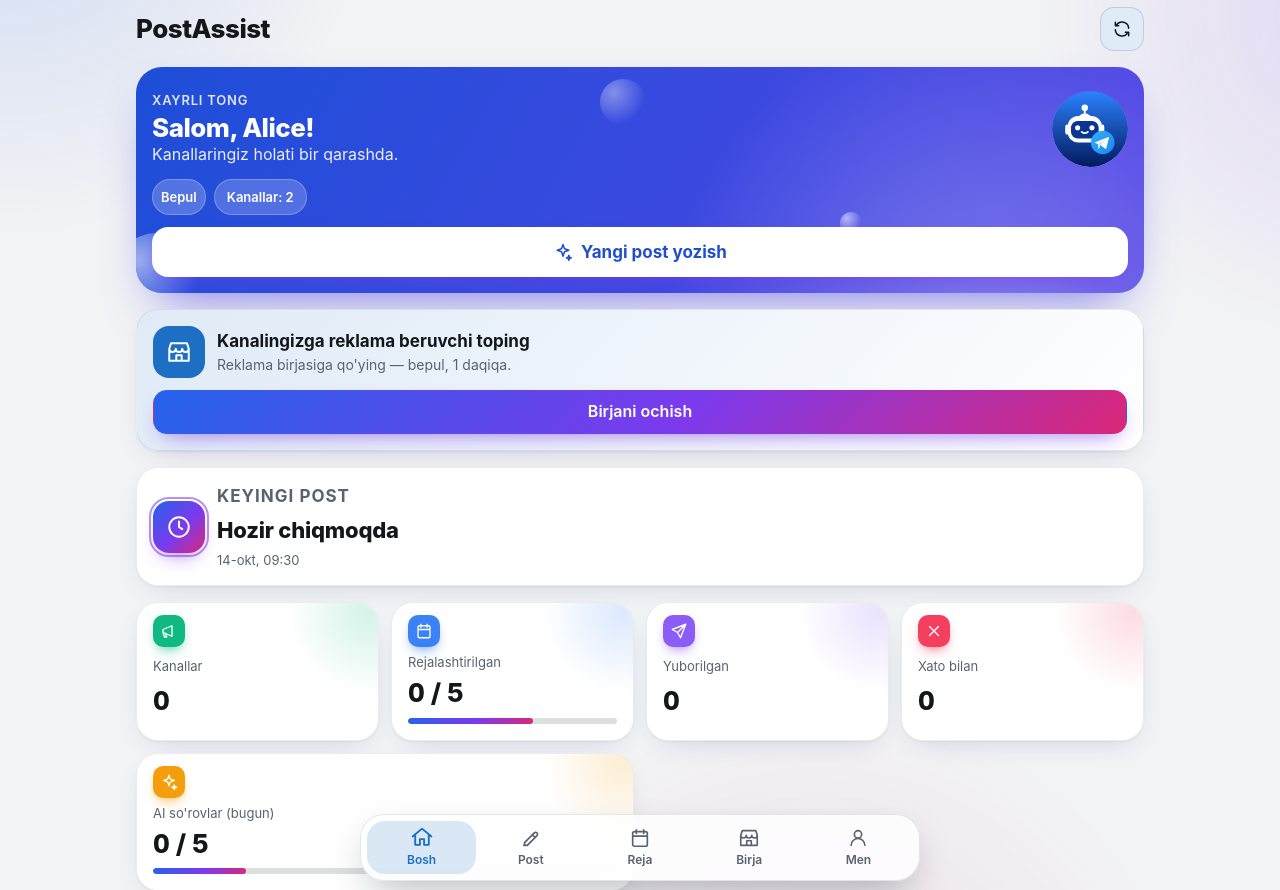
Test: Aqlli rejalash › matn -> «Aniqlash» -> taklif kartasi (manba, takrorlanish, birinchi chiqish) -> «Qo'llash» maydonlarni to'ldiradi
Expected: the heading "Salom, Alice!" is shown, [152,112,314,143]
Click the button "Post": coordinates (531, 847) [476,821,585,874]
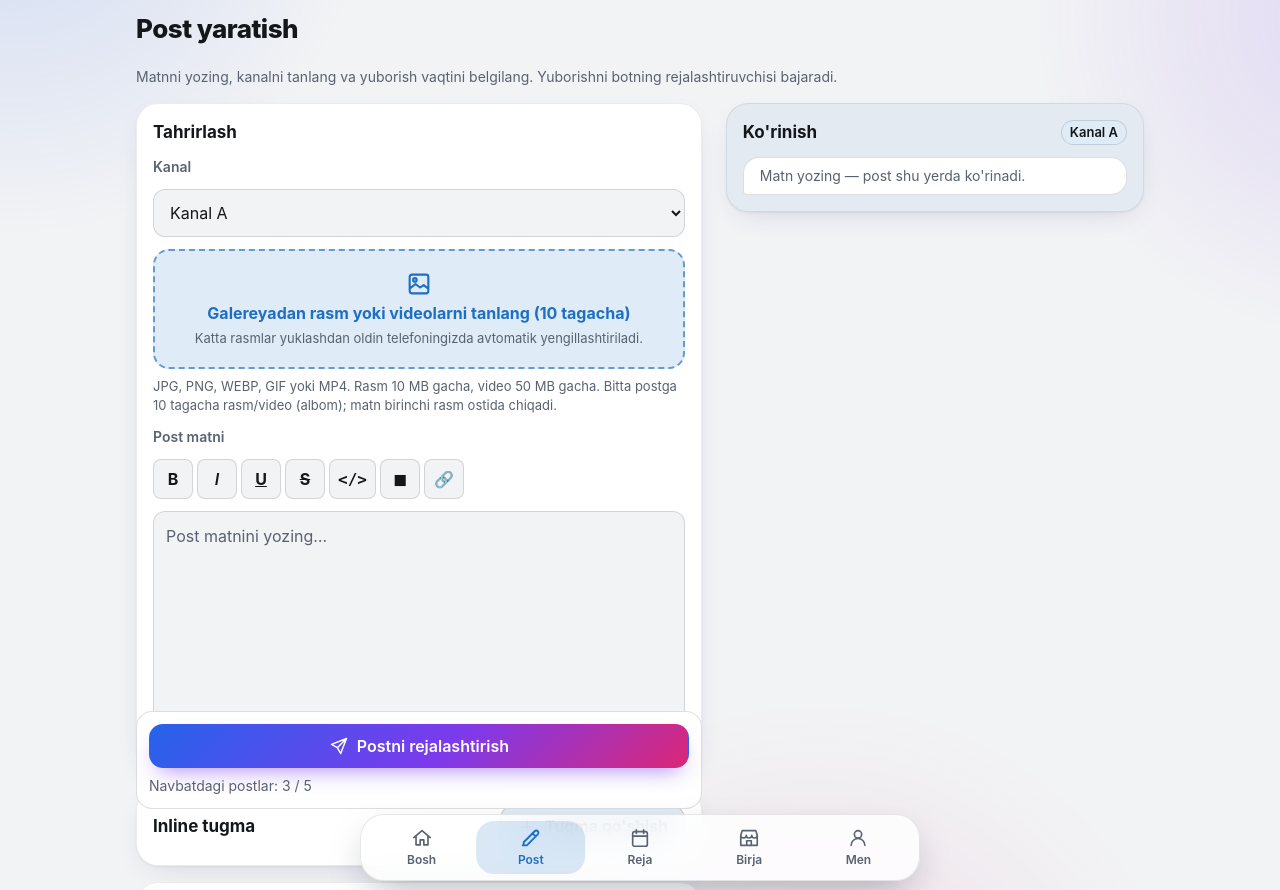
Select "Kanal A" in the dropdown labelled "Kanal": coordinates (419, 213) [153,189,685,237]
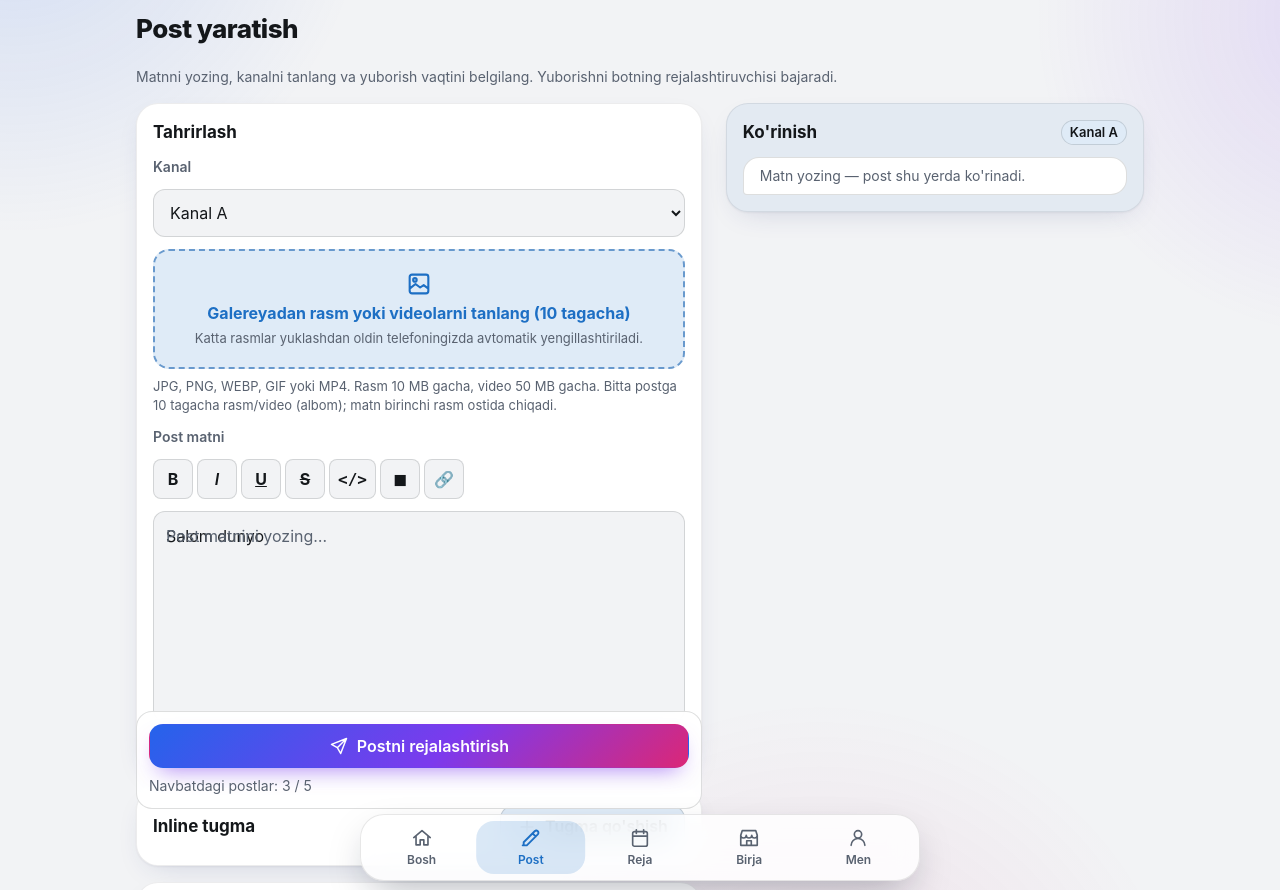
Clear the field named "Post matni": coordinates (419, 617) [153,511,685,722]
(page scrolled)
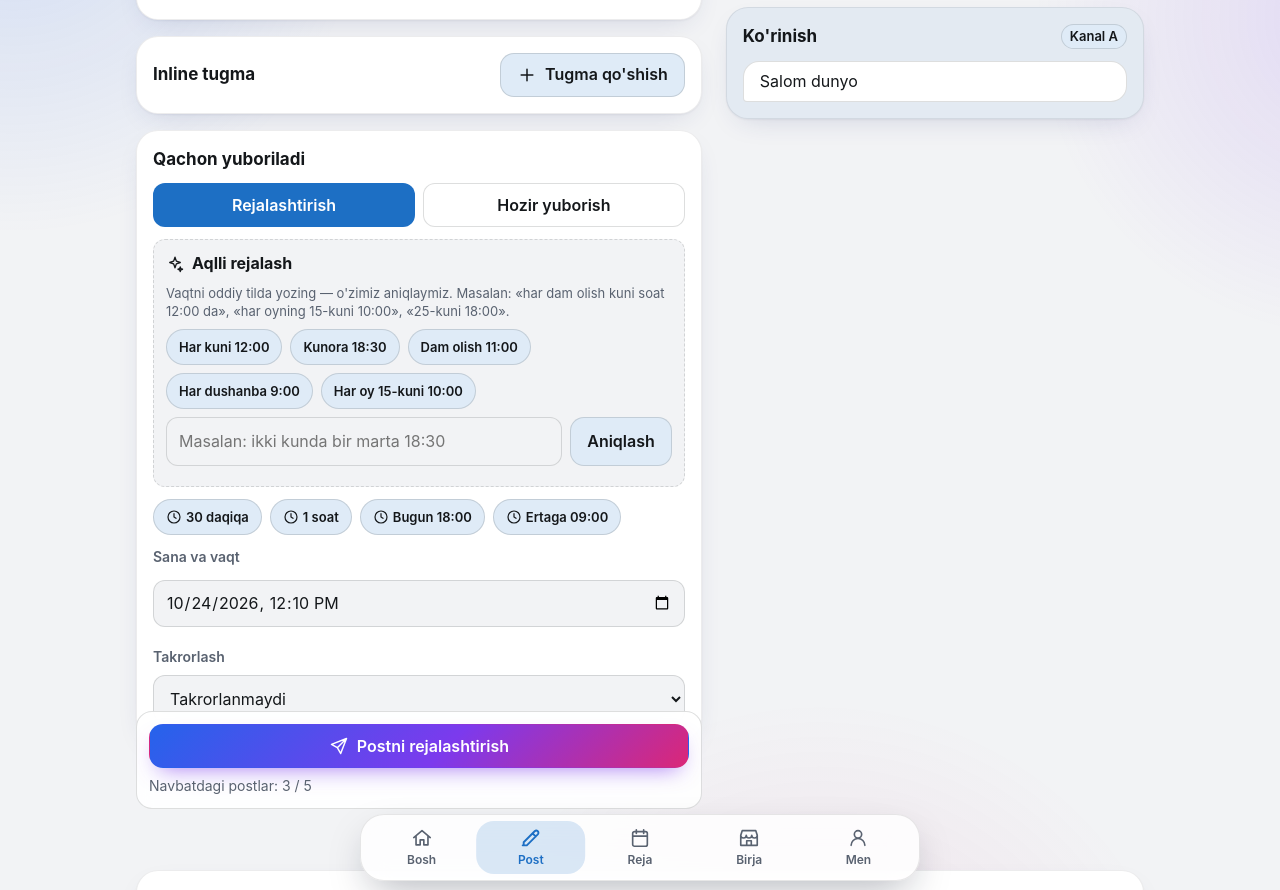
In the field named "Aqlli rejalash": coordinates (364, 442) [166,417,562,466], type "kunora 12:00"
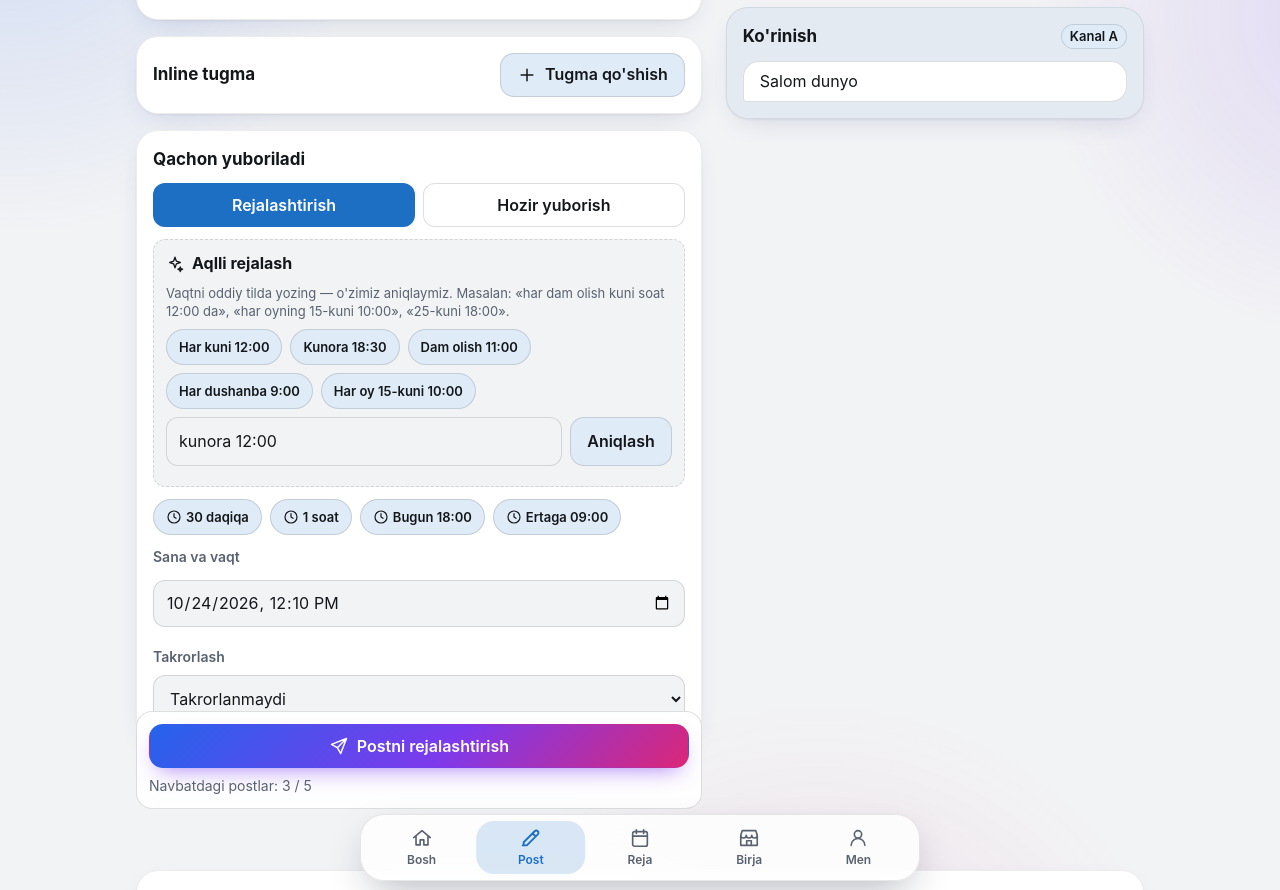
Click the button "Aniqlash": coordinates (621, 442) [570,417,672,466]
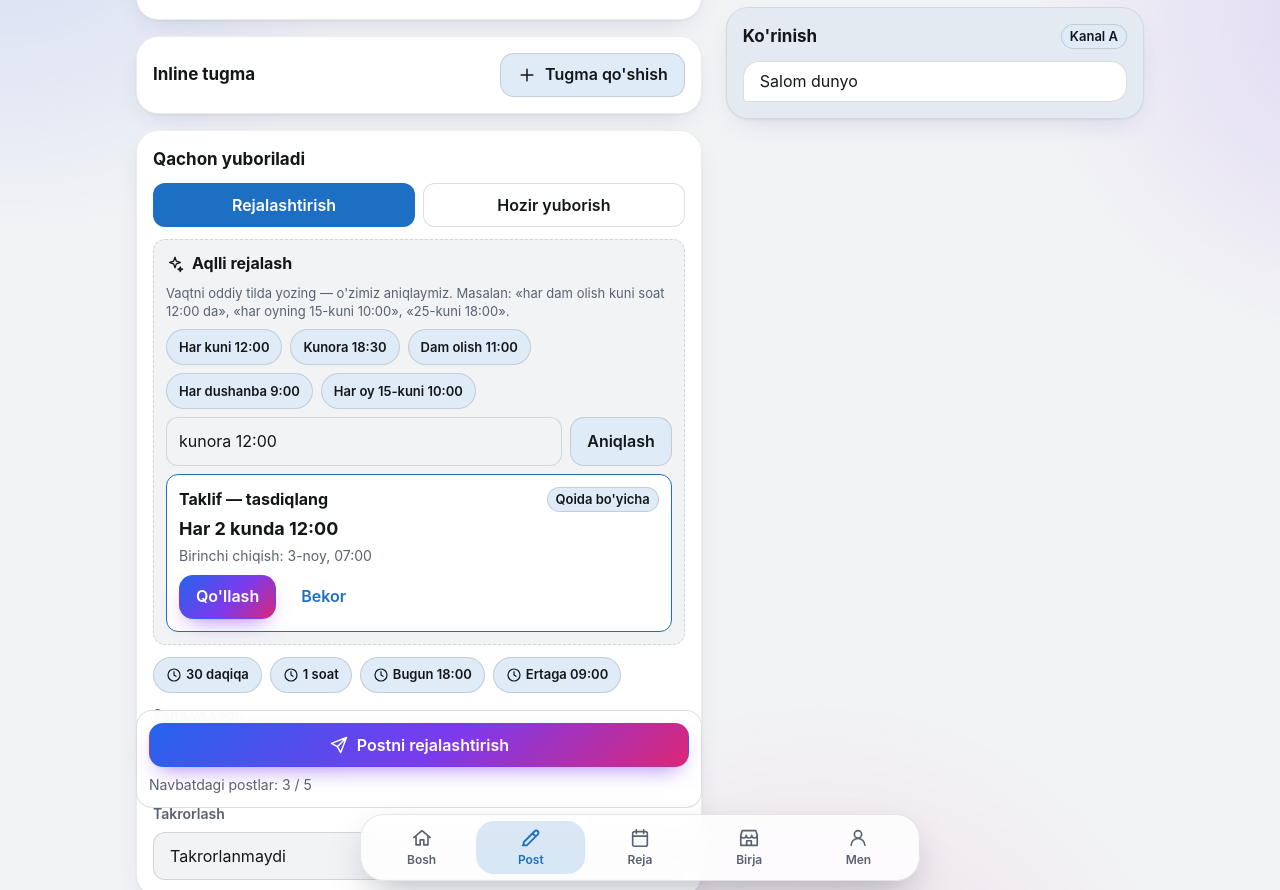
Result: the text "Har 2 kunda 12:00" is shown at [179,518,338,539]
Result: the text "Qoida bo'yicha" is shown at [546,487,659,512]
Result: the text "Birinchi chiqish: 3-noy, 07:00" is shown at [179,547,372,564]
Click the button "Qo'llash": coordinates (228, 597) [179,575,276,619]
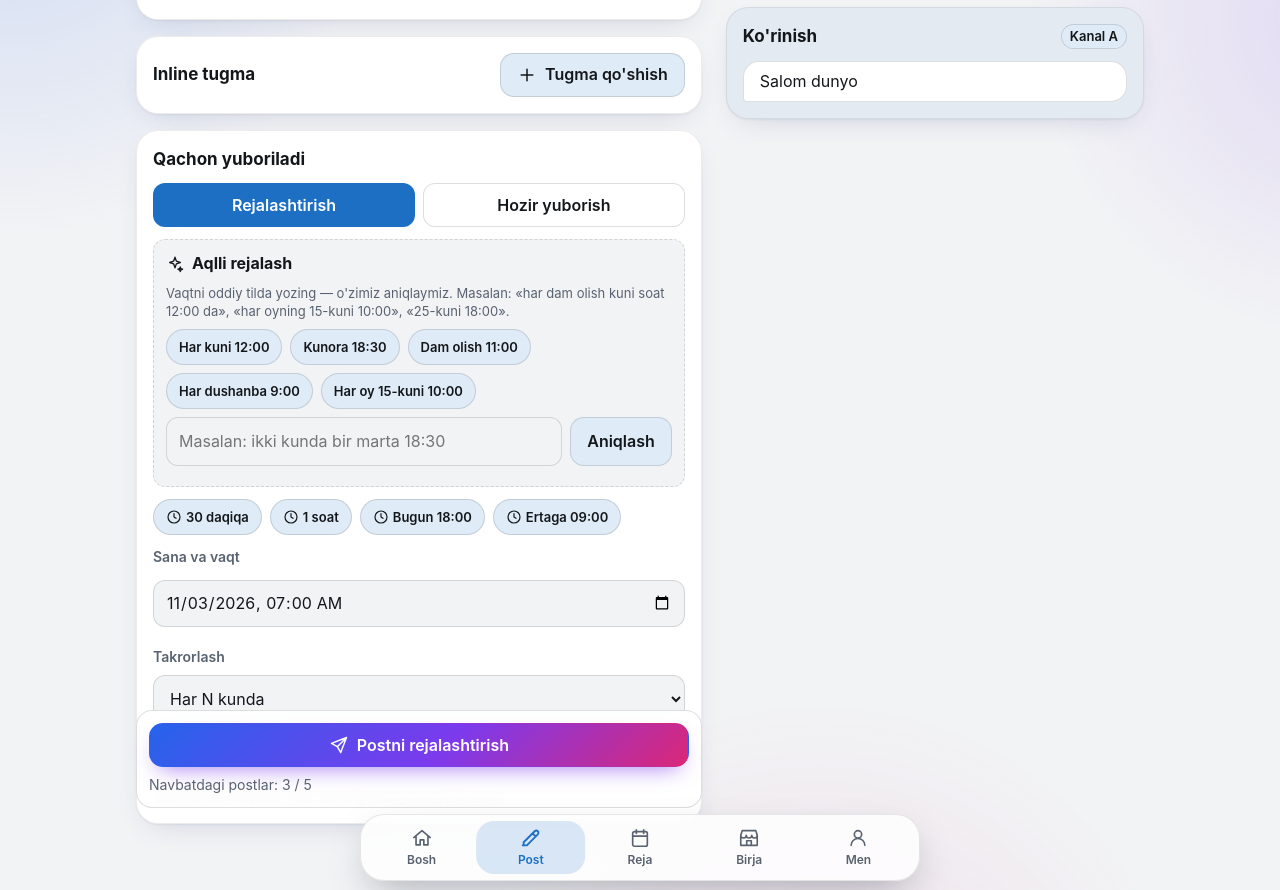
Expected: the number field holds "2", [188,731,276,780]
Result: the element with test id "smart-proposal" is gone
Result: the dropdown labelled "Takrorlash" shows "Har N kunda" at [153,675,685,723]
